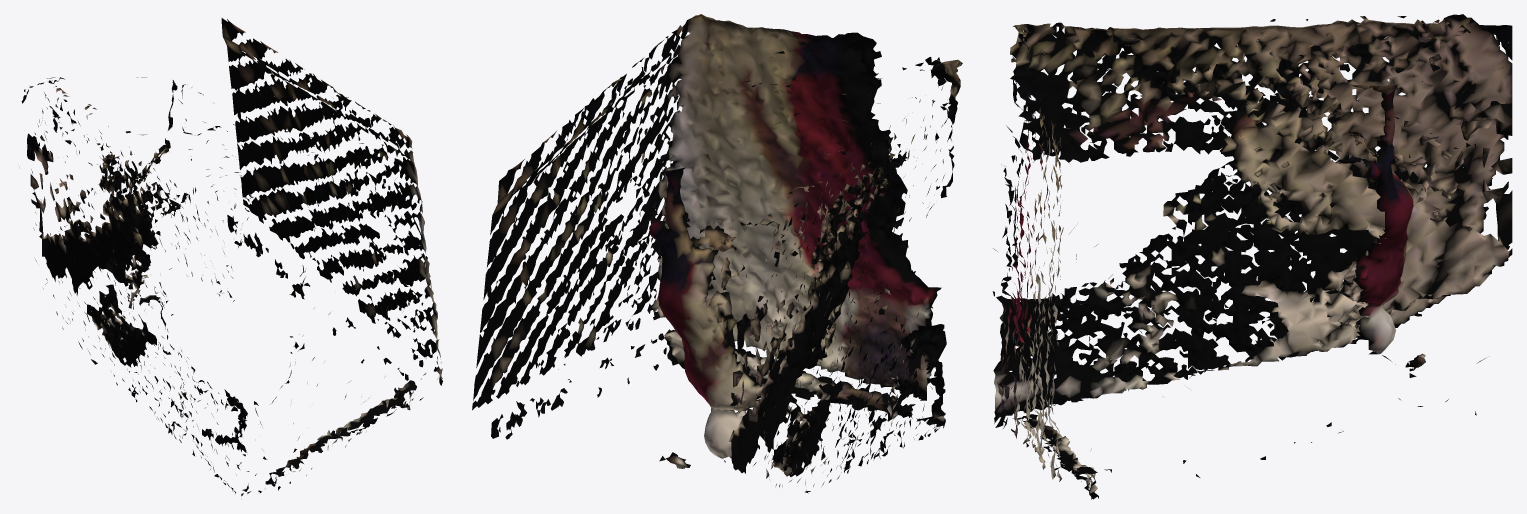
Rendered from hawk.glb.
The picture shows the model from 3 angles, left to right: view 1: azimuth 30°, elevation 25°; view 2: azimuth 150°, elevation 25°; view 3: azimuth 270°, elevation 25°; orthographic projection. The views are drawn at different scales.
Visible parts, largest first — view 1: Model; view 2: Model; view 3: Model.
Boxes of the visible parts, <box> form: Model: <box>21,18,442,496</box>; Model: <box>472,14,962,493</box>; Model: <box>992,14,1512,499</box>.
Size of the model in its own units: 1.36 by 1.58 by 1.9.
